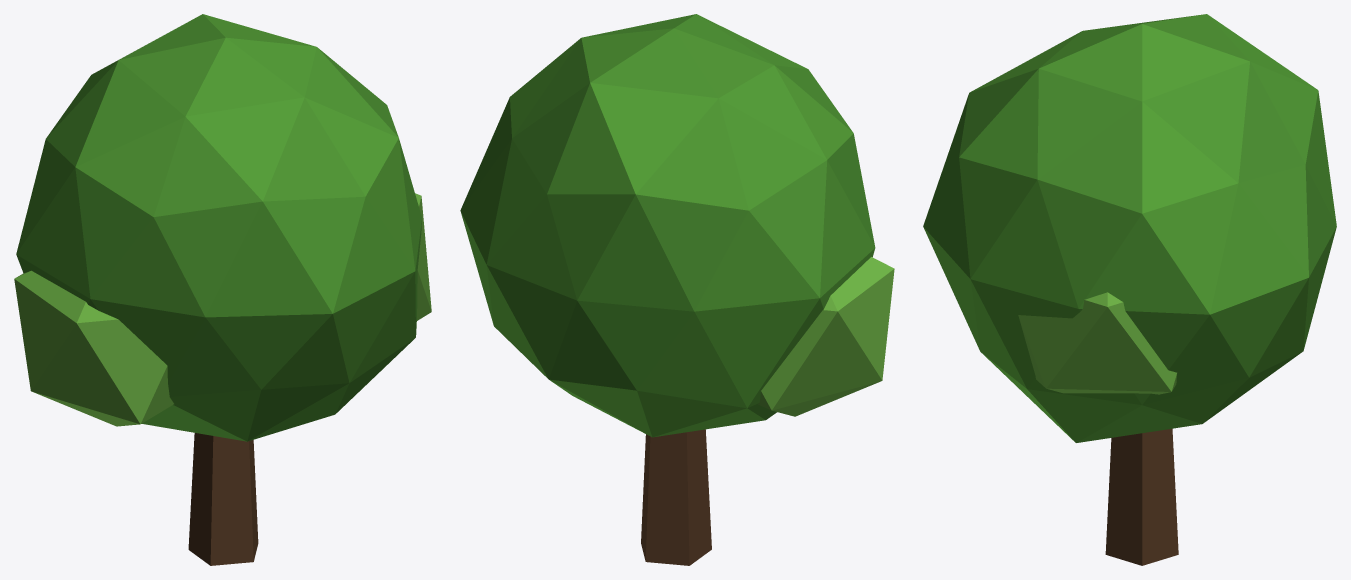
File: TreeRound_A.fbx
The picture shows the model from 3 angles, left to right: view 1: azimuth 30°, elevation 25°; view 2: azimuth 150°, elevation 25°; view 3: azimuth 270°, elevation 25°; orthographic projection. The views are drawn at different scales.
Visible parts, largest first — view 1: TreeRound_A; view 2: TreeRound_A; view 3: TreeRound_A.
Boxes of the visible parts, left/top/right/bottom form: TreeRound_A: left=14, top=14, right=431, bottom=565; TreeRound_A: left=460, top=14, right=894, bottom=565; TreeRound_A: left=923, top=14, right=1336, bottom=565.
Bounding box in the file's own units: 3262 × 4229 × 3016.
